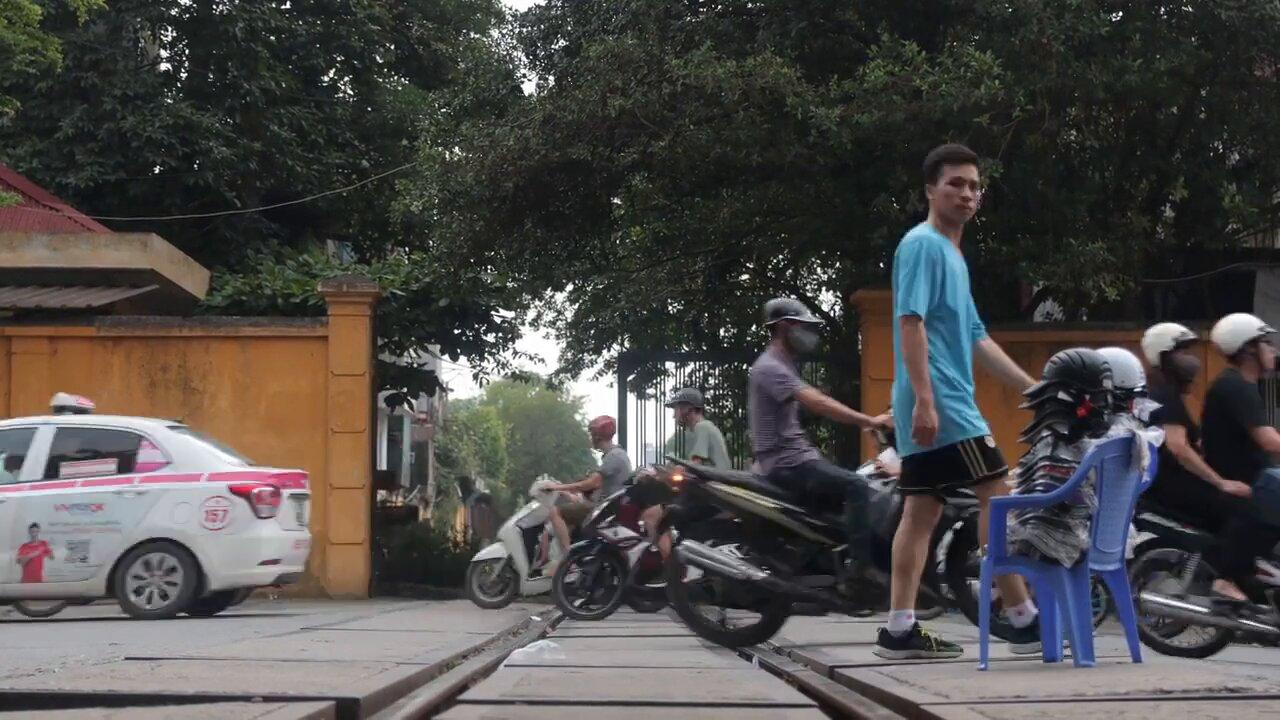driver: (667, 296, 948, 645), (1123, 311, 1280, 659), (550, 387, 734, 620), (464, 416, 633, 610)
helmet: (1209, 312, 1280, 378), (761, 297, 825, 359), (1141, 321, 1200, 384), (663, 387, 706, 427), (588, 415, 616, 450)
no-helmet: (922, 142, 980, 226)
